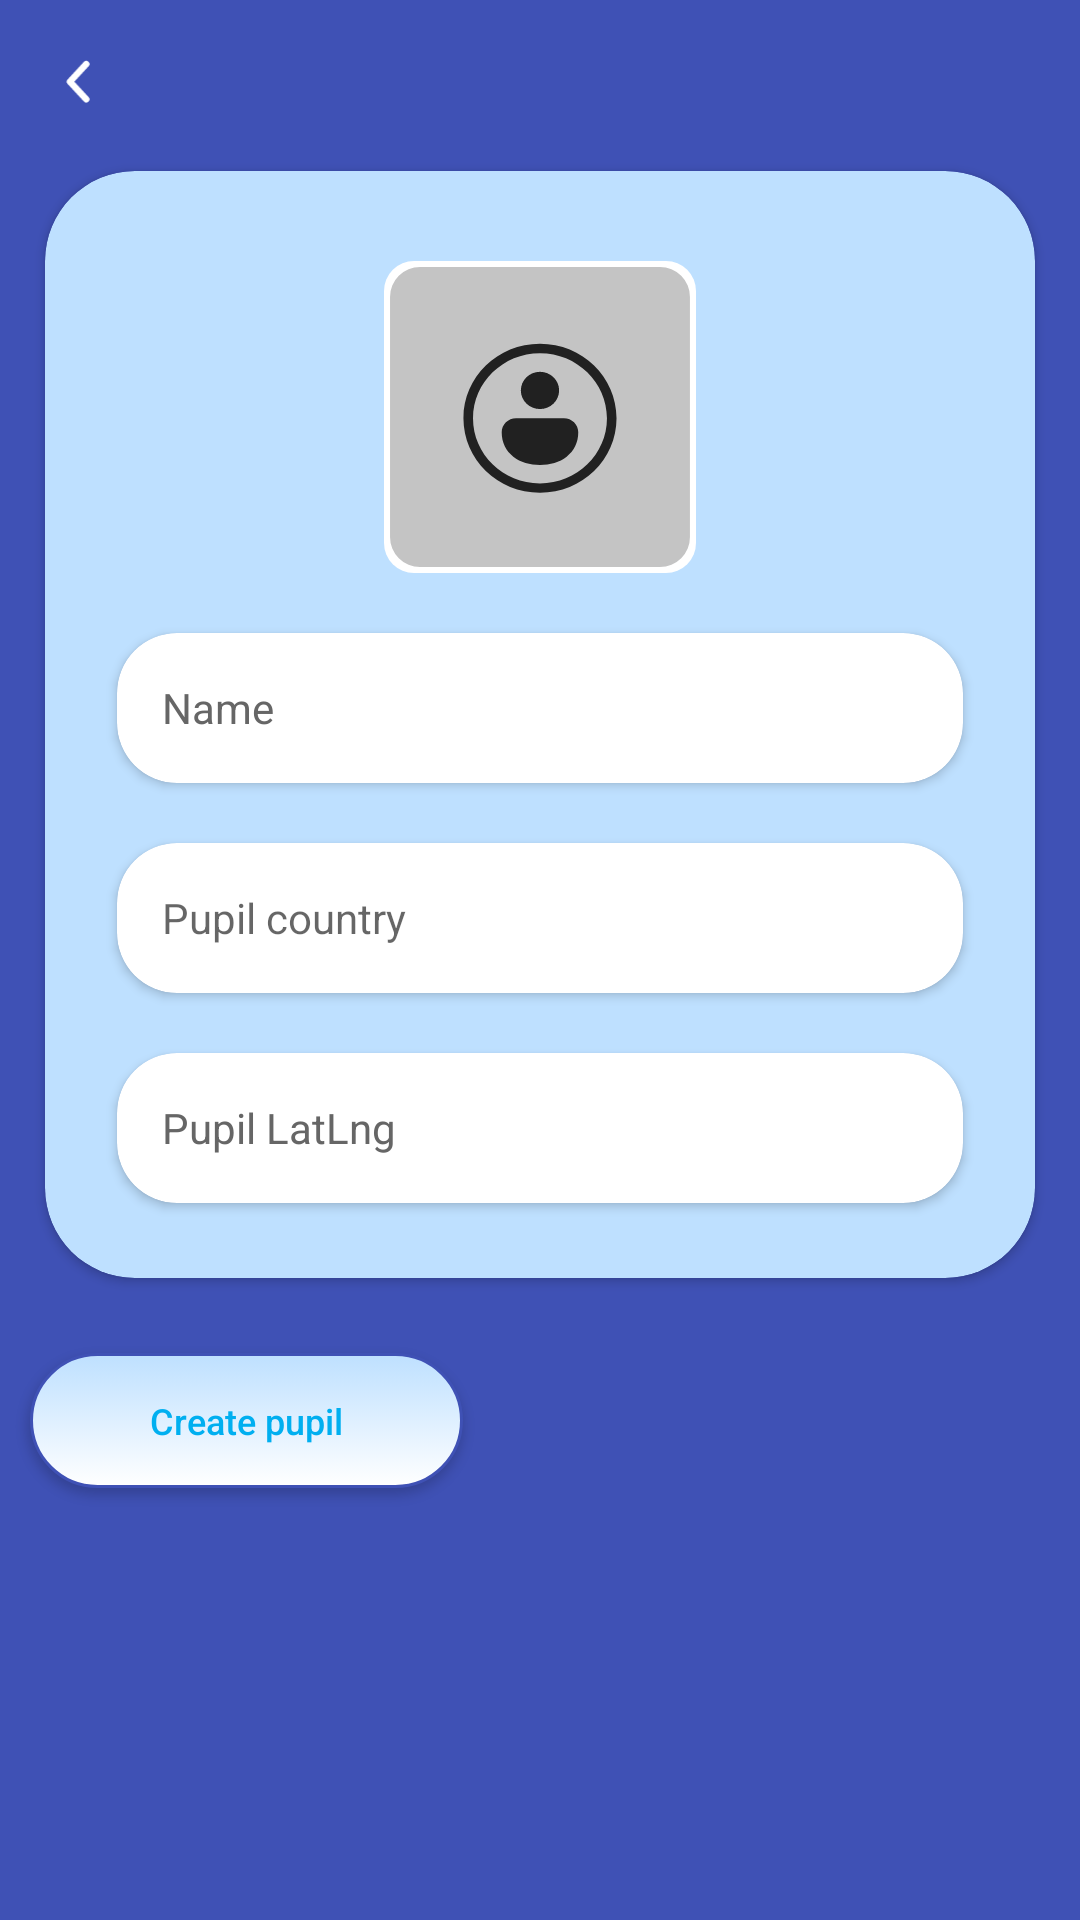

Where to tap for icons on this 1080px×1920px app screen, as point (x, y):
Back button: point (78, 81)
Pupil Image: point (540, 417)
